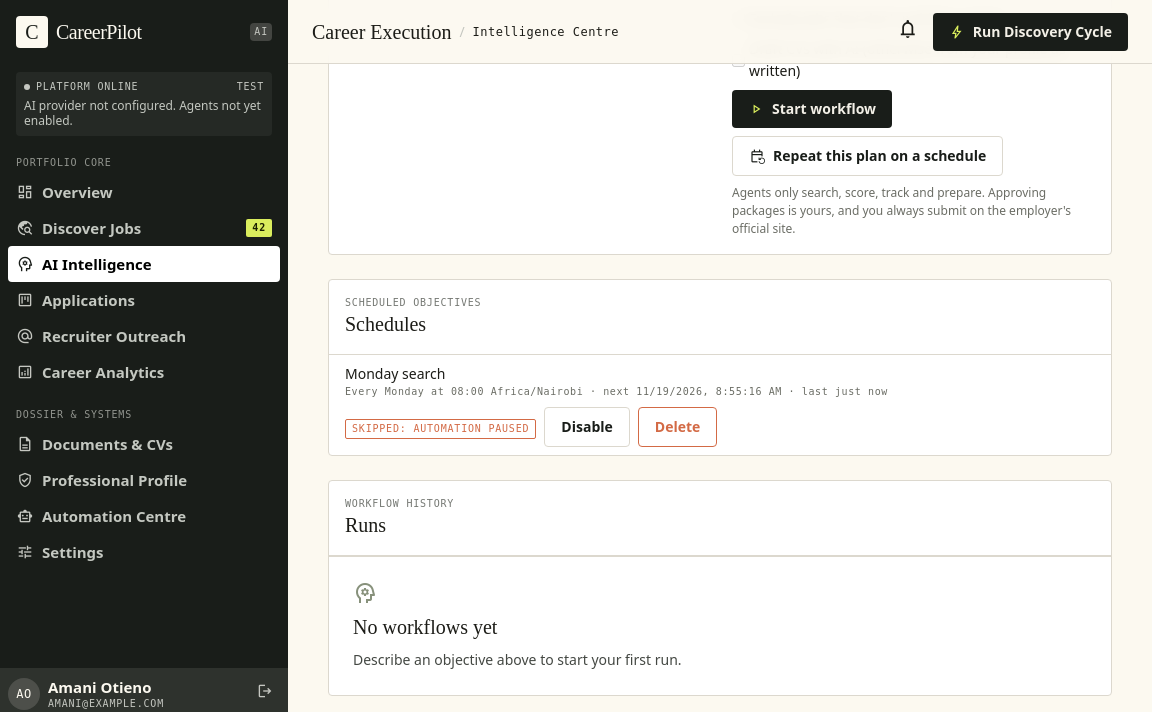
Scenario: workflow schedules › lists schedules with their last outcome, disables and creates one from the plan
This screenshot has width=1152, height=712.
(page scrolled)
expect the text "Monday search" is shown: met, box [345,364,445,383]
expect the text "Skipped: automation paused" is shown: met, box [345,418,536,438]
Click the button "Disable": click(587, 427) [544,407,630,447]
(page scrolled)
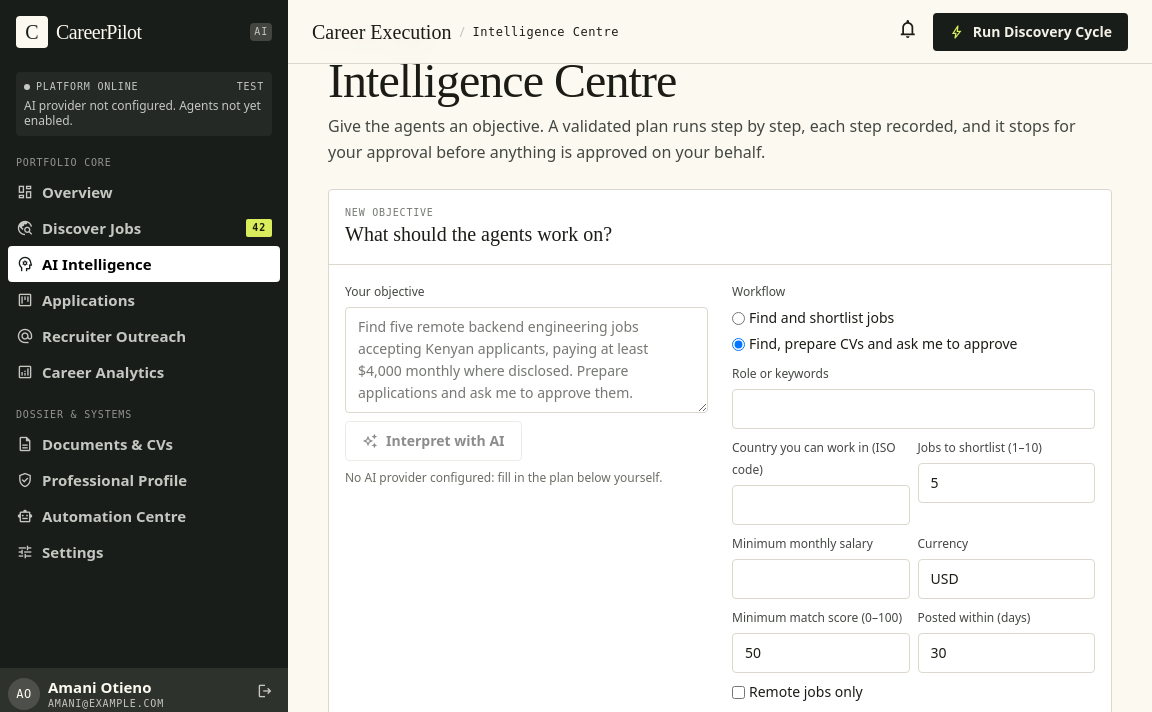
In the text box labelled "Your objective": (526, 360) [345,307,708,413], type "Find remote Go jobs"
(page scrolled)
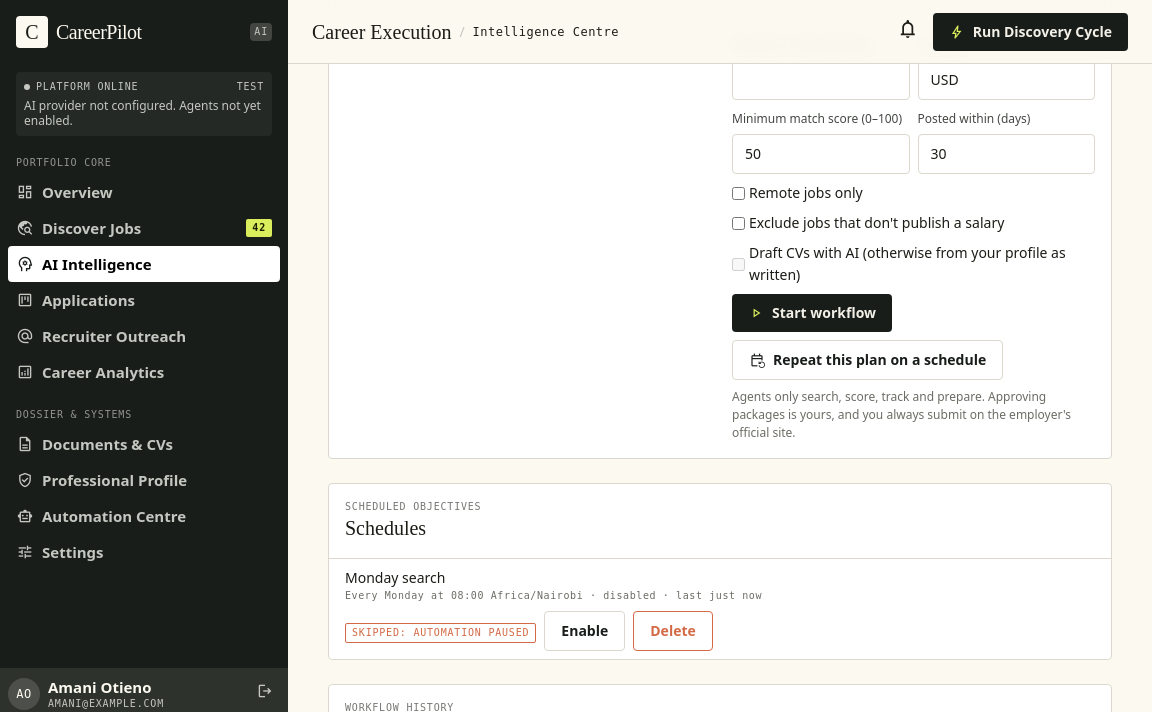
Click the button "Repeat this plan on a schedule": click(868, 360) [732,340,1003,380]
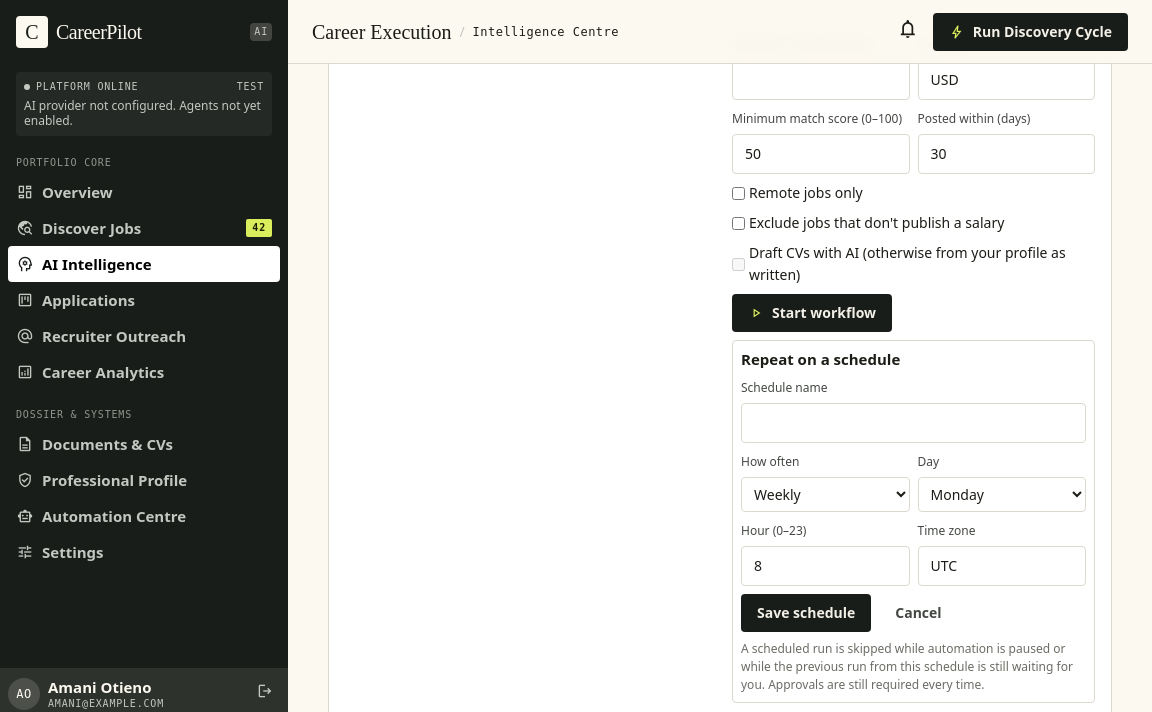
In the field labelled "Schedule name": (914, 423) [741,403,1086,443], type "Daily Go"
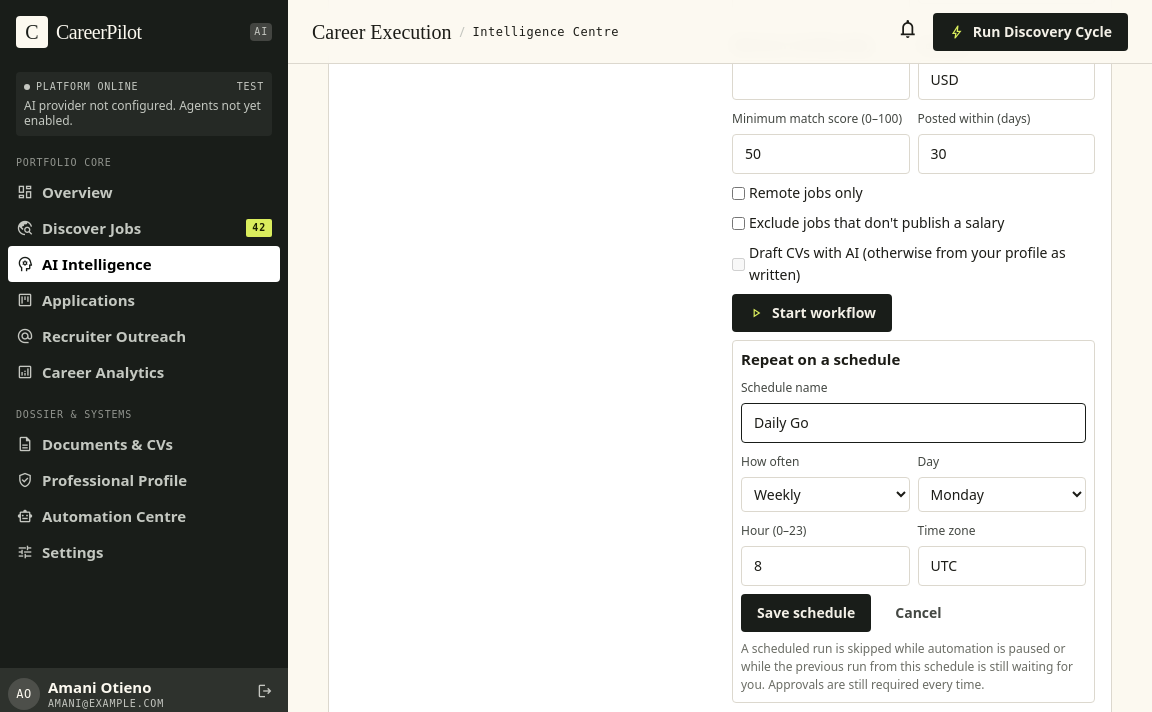
Select "Daily" in the dropdown labelled "How often": (825, 494) [741,477,910,512]
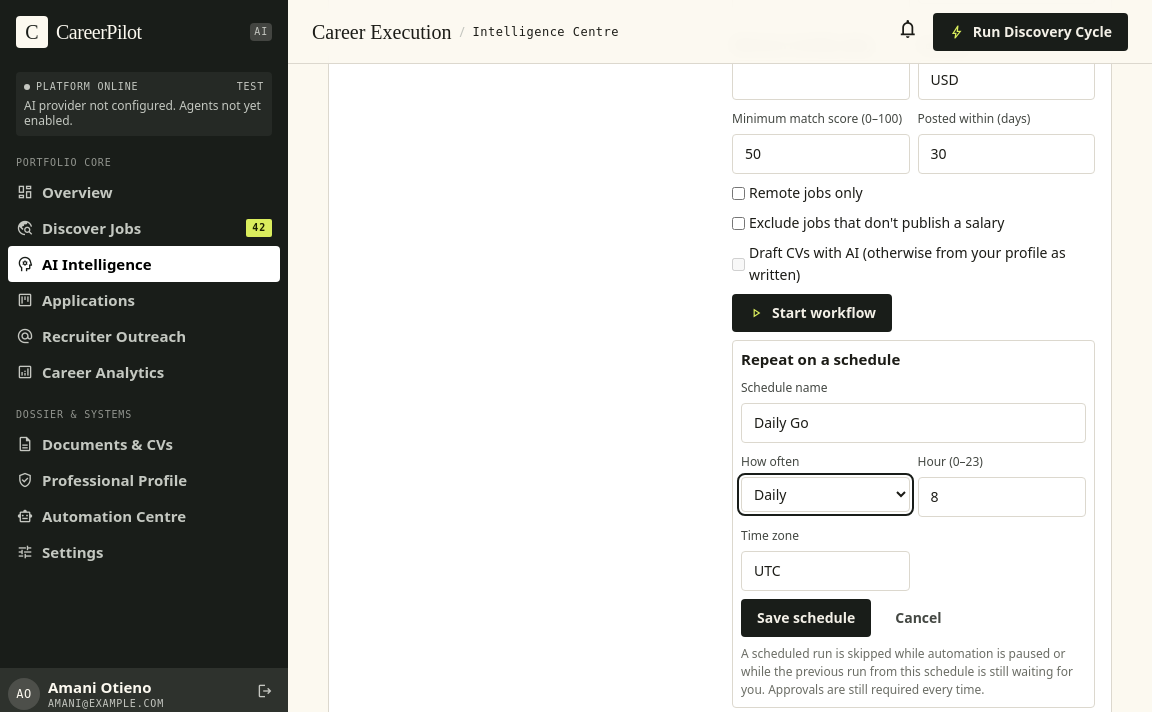
Click the button "Save schedule": click(806, 618) [741,599,871,637]
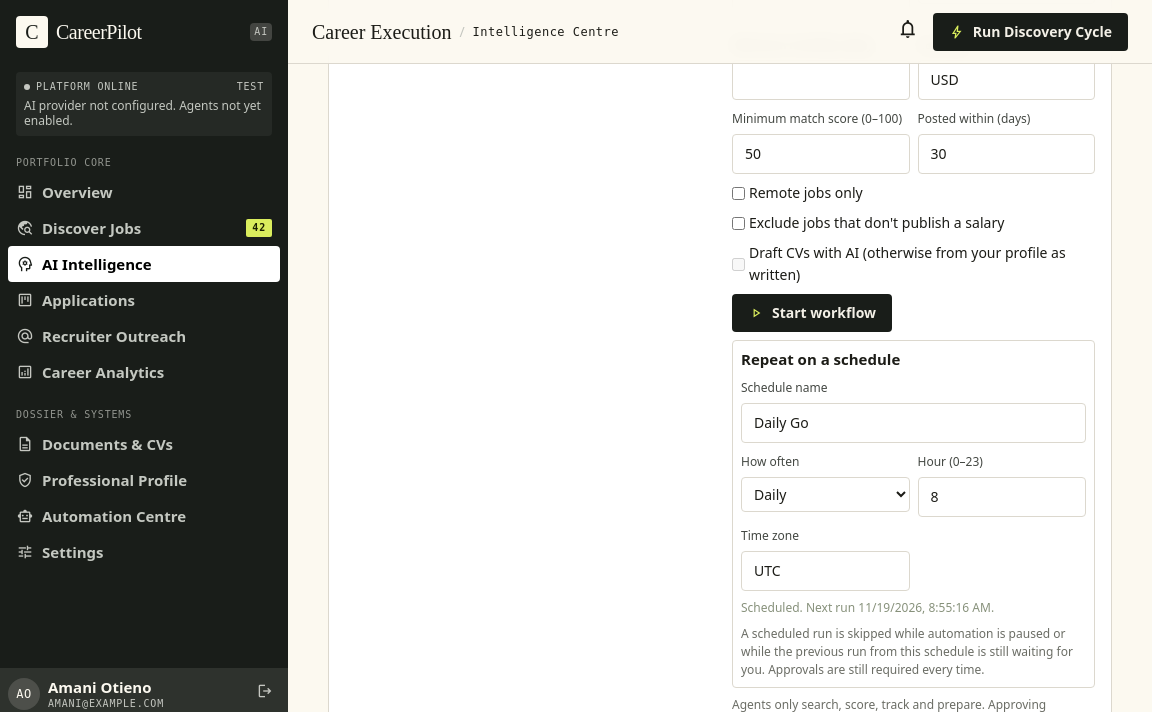
expect the text "Scheduled. Next run 11/19/2026, 8:55:16 AM." is shown: met, box [741,599,994,616]
